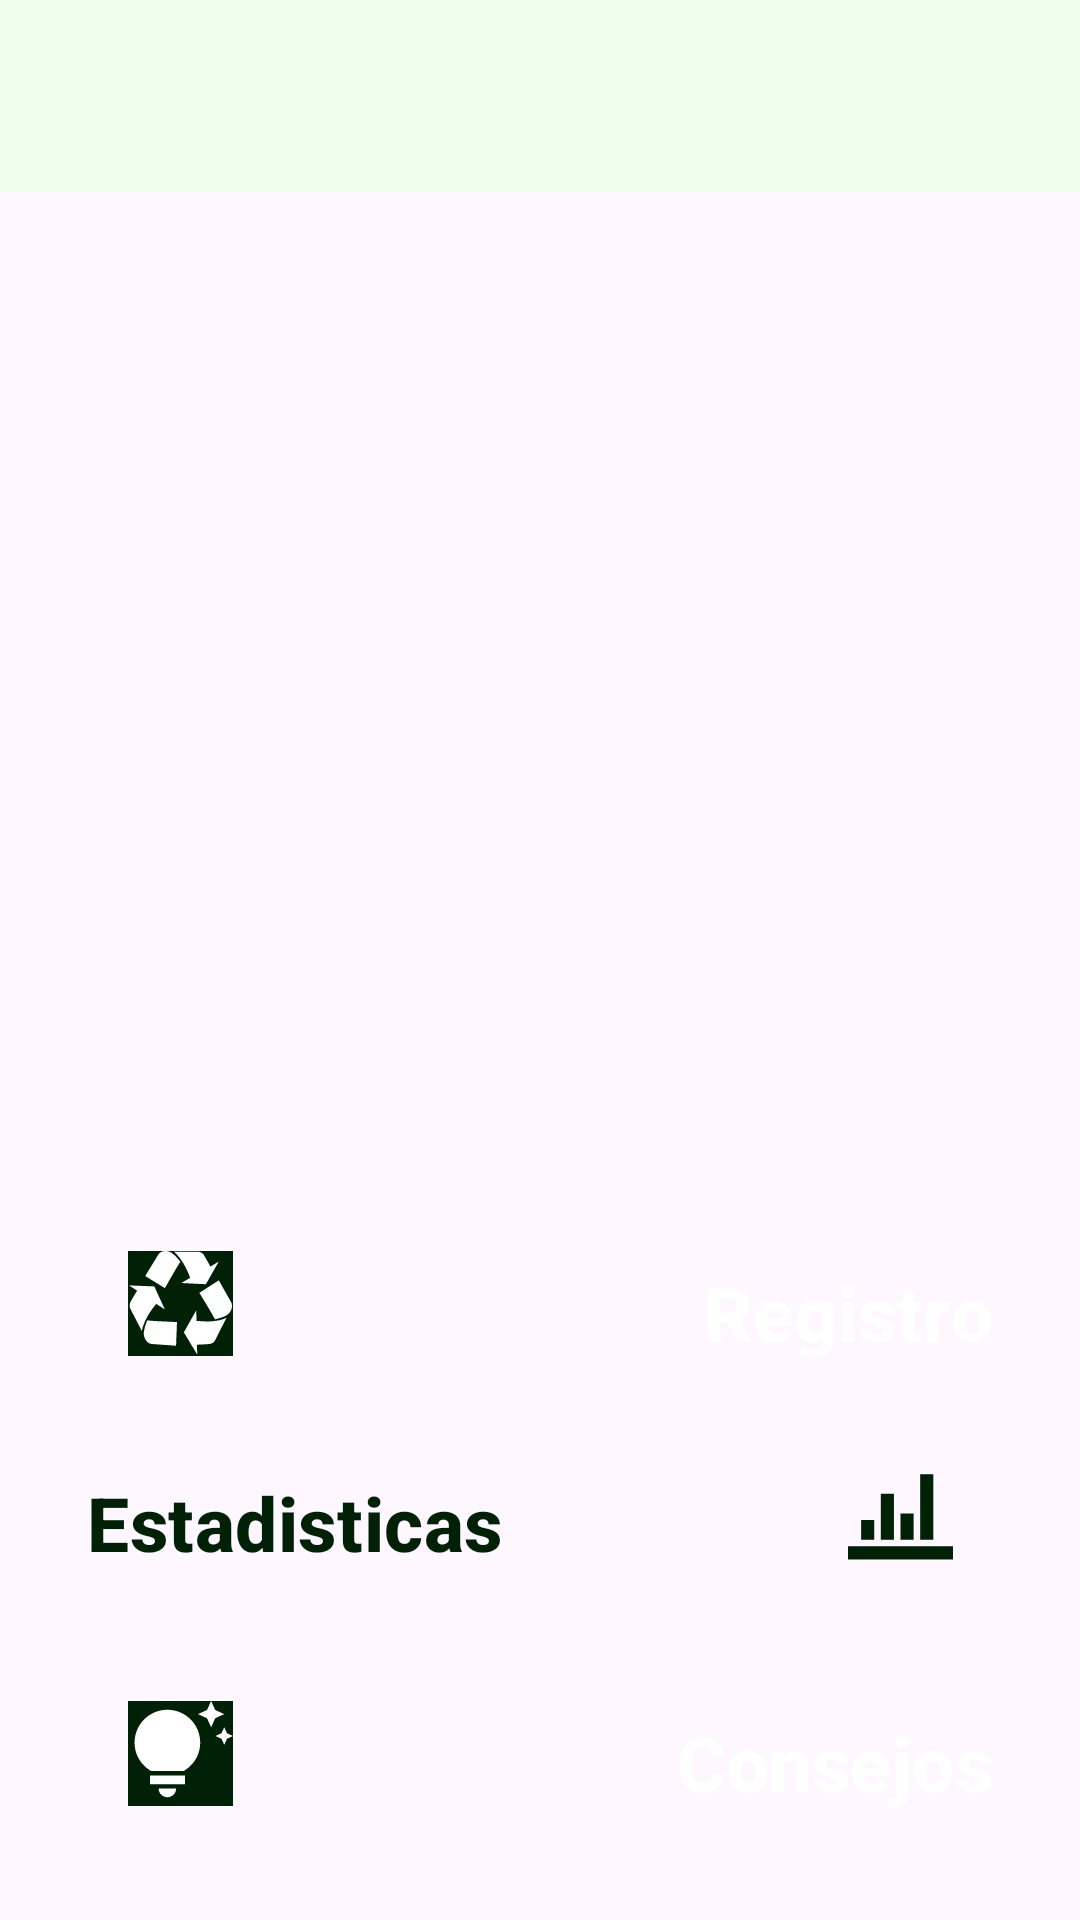

Locate icon controls on the screen. Image size 1080px x 1920px, boxes as Rect(x1, y1, x2, y2).
stats: Rect(848, 1474, 953, 1560)
tips: Rect(128, 1701, 233, 1806)
